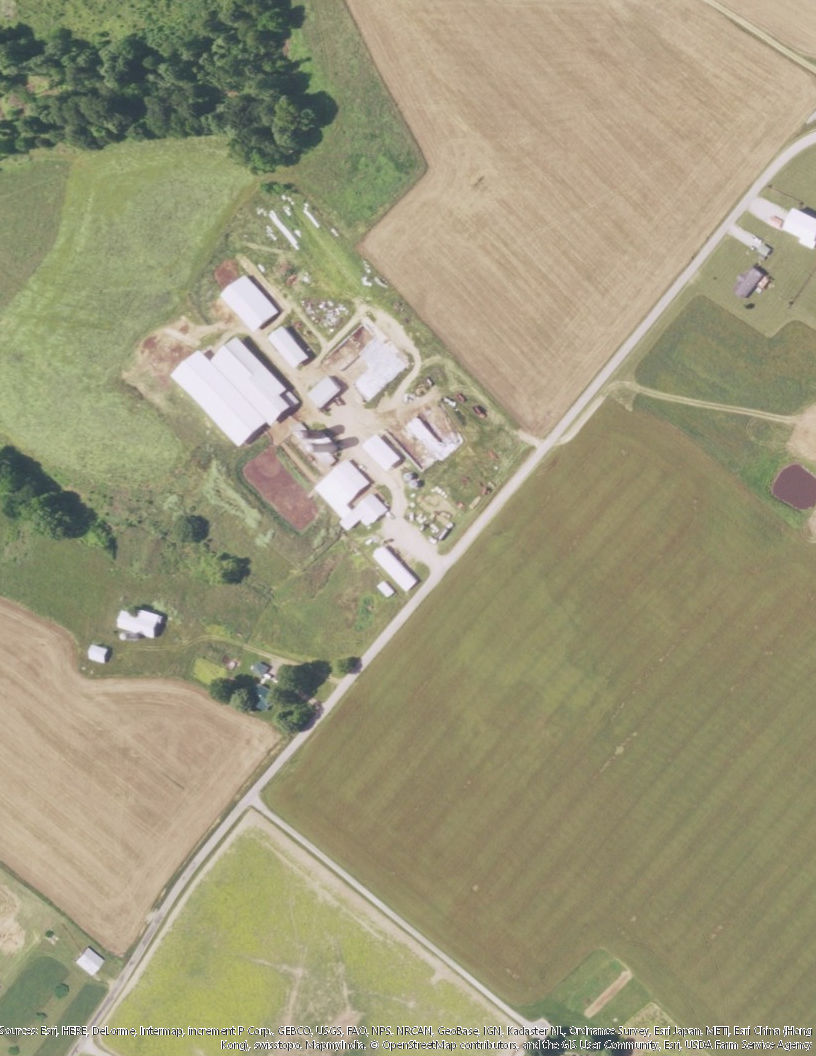cafo: (170, 334, 301, 448), (312, 455, 392, 534), (219, 273, 283, 335), (369, 545, 425, 595), (265, 325, 313, 370), (362, 432, 402, 468)
